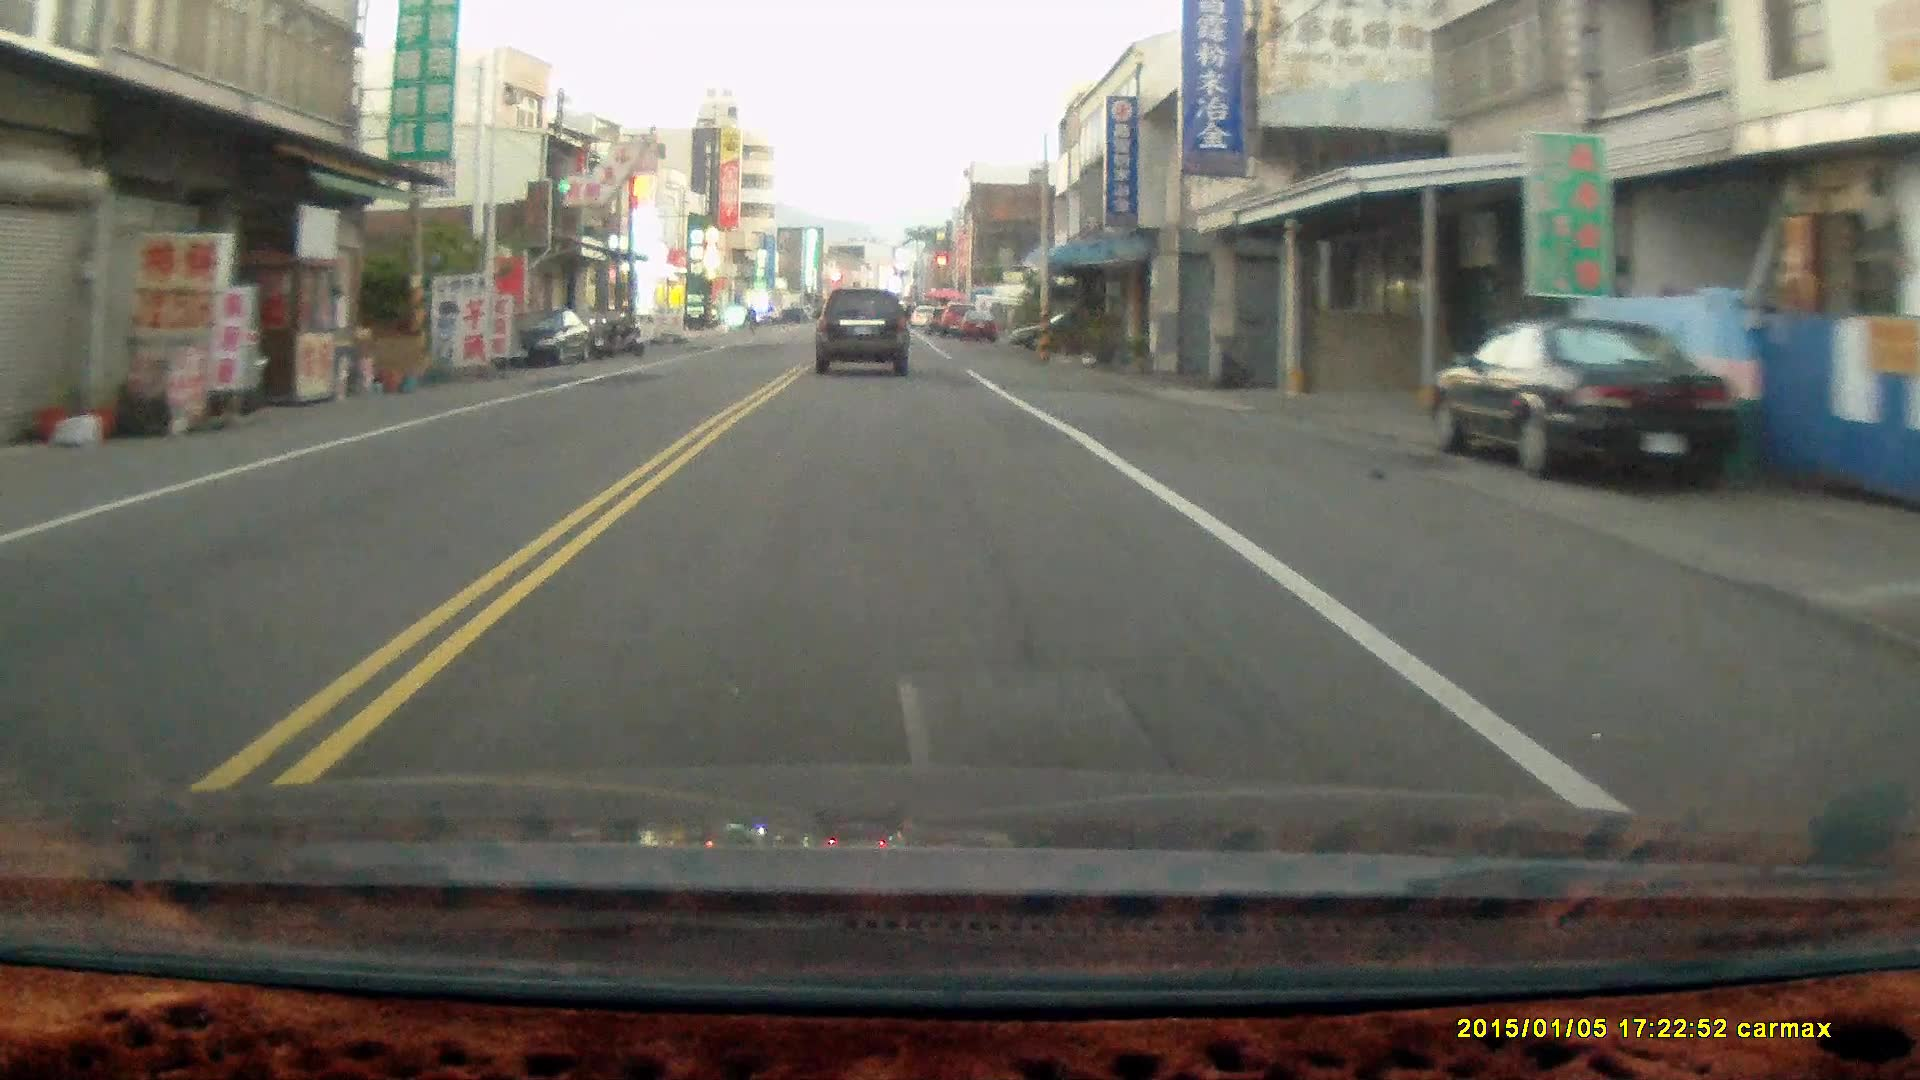vehicle: (1425, 316, 1749, 495), (814, 287, 910, 380)
